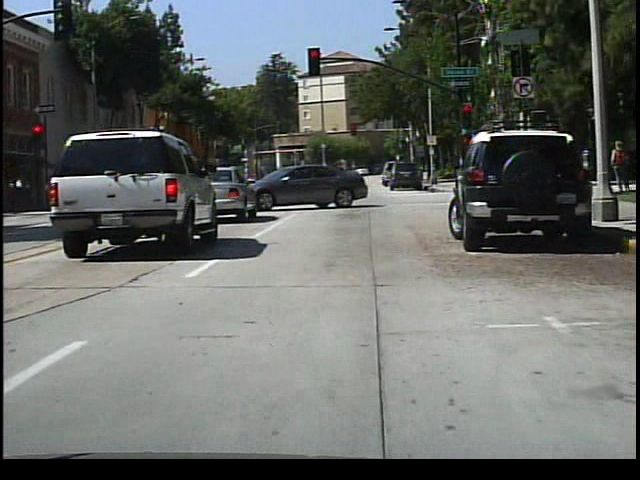person: (609, 137, 629, 192), (328, 159, 353, 200), (456, 150, 473, 188)
